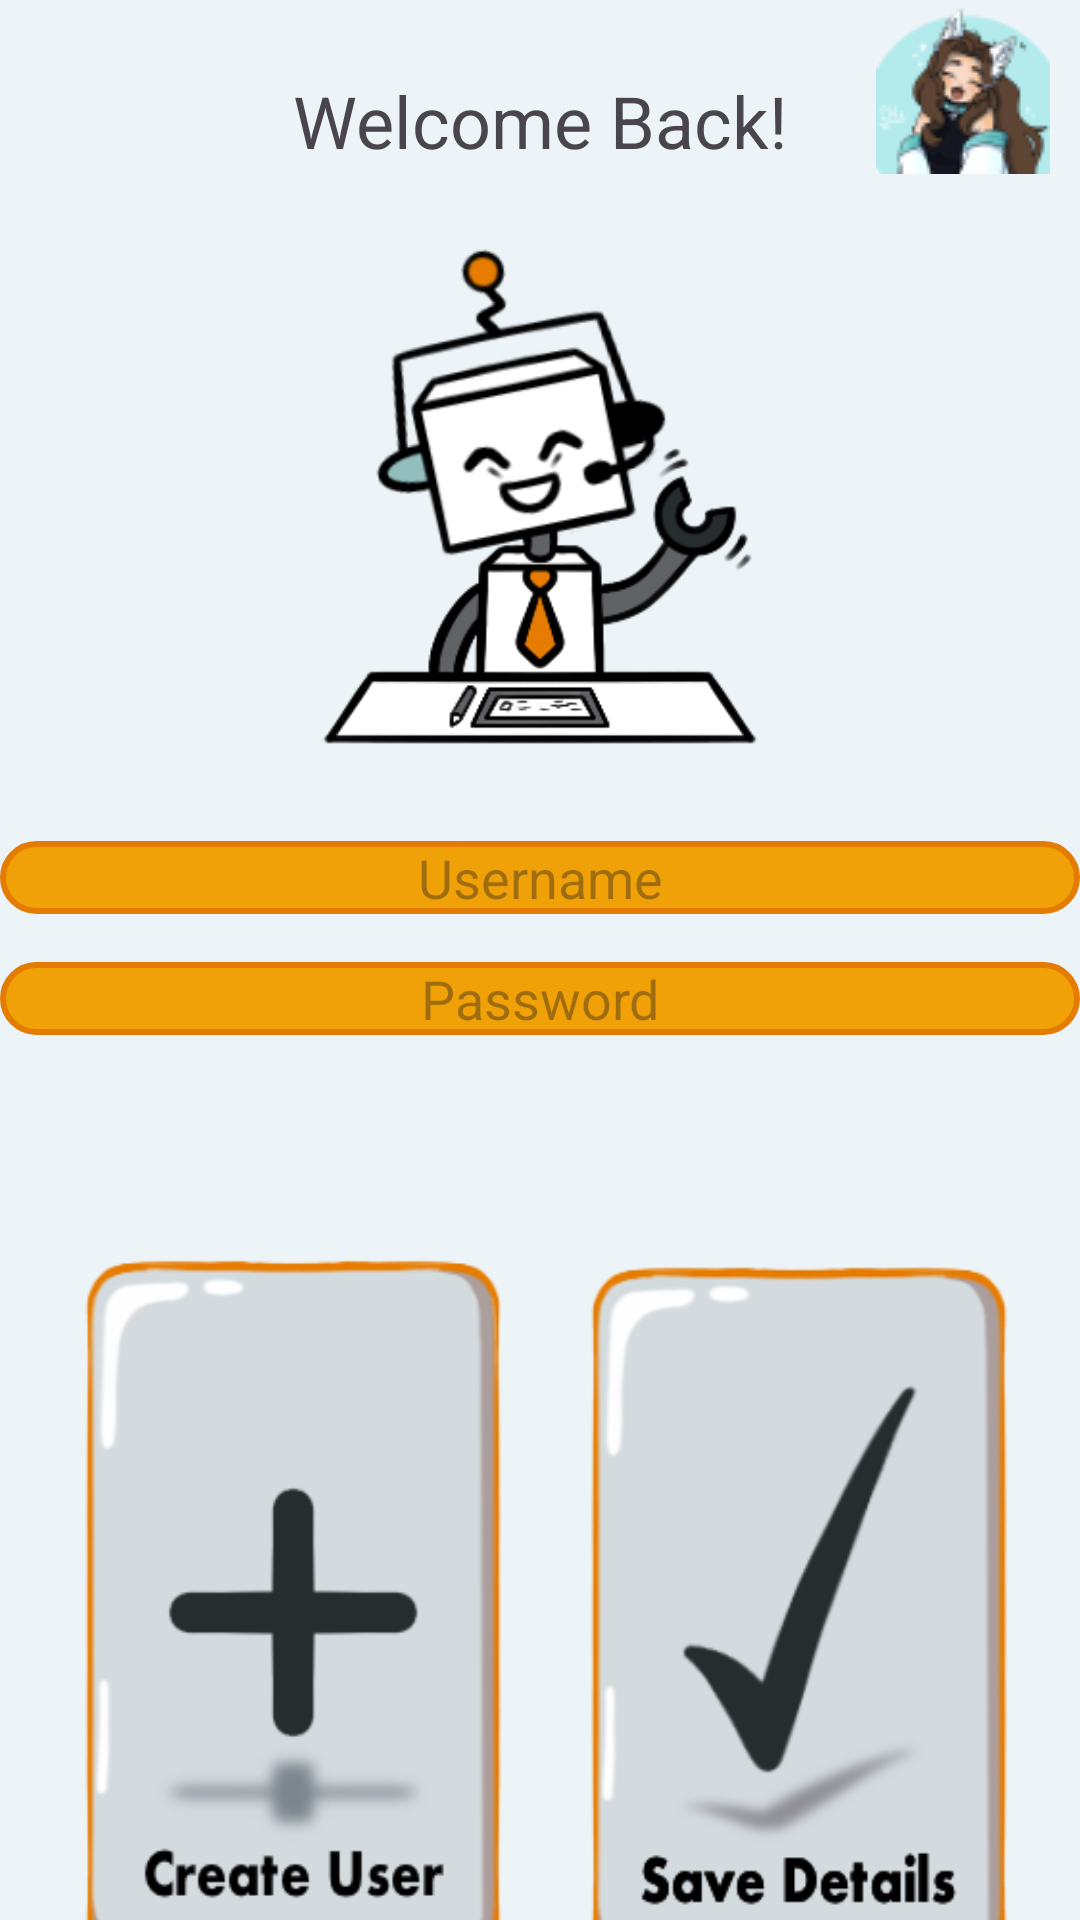

Screen size 1080w x 1920h. Icon name, then its box in pixels as (x1, y1, x2, y2):
Button for lead digital artist: (876, 10, 1050, 174)
